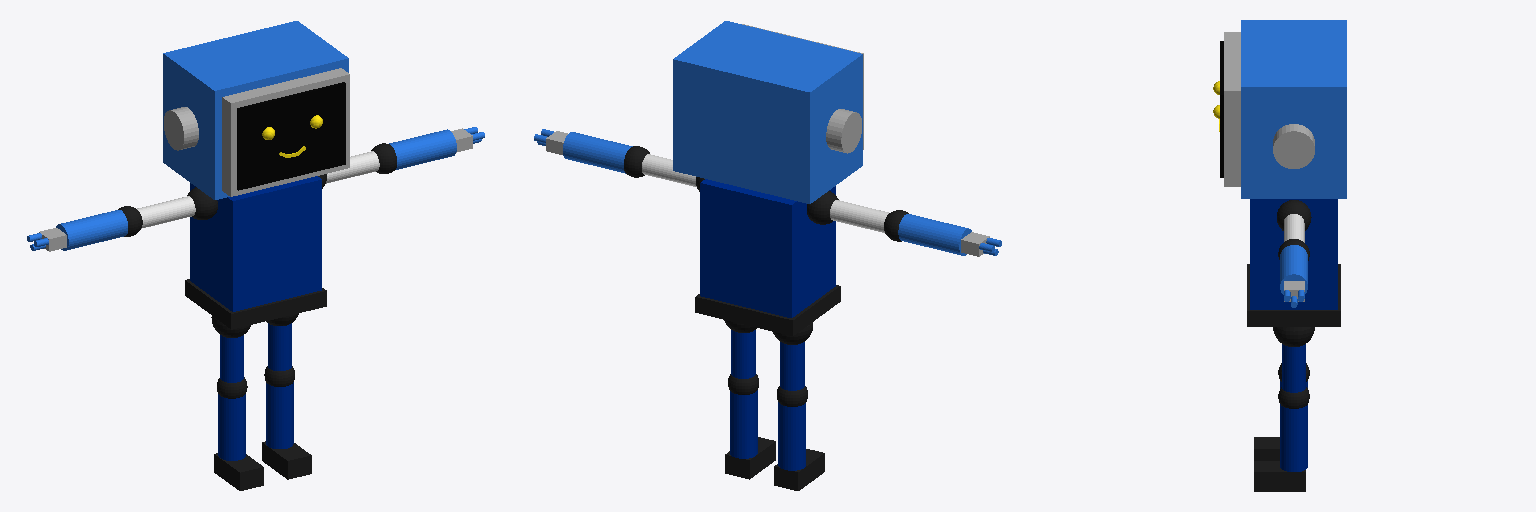
The robot description file, URDF, robot "robot":
<?xml version="1.0" ?>
<robot name="robot">
  <material name="mat_cube_003399ff">
    <color rgba="0 0.2 0.6 1"/>
  </material>
  <material name="mat_cube_262626ff">
    <color rgba="0.15 0.15 0.15 1"/>
  </material>
  <material name="mat_cylinder_262626ff">
    <color rgba="0.15 0.15 0.15 1"/>
  </material>
  <material name="mat_cube_3380e6ff">
    <color rgba="0.2 0.5 0.9 1"/>
  </material>
  <material name="mat_cube_b2b2b2ff">
    <color rgba="0.7 0.7 0.7 1"/>
  </material>
  <material name="mat_cube_0d0d0dff">
    <color rgba="0.05 0.05 0.05 1"/>
  </material>
  <material name="mat_sphere_ffe61aff">
    <color rgba="1 0.9 0.1 1"/>
  </material>
  <material name="mat_cube_ffe61aff">
    <color rgba="1 0.9 0.1 1"/>
  </material>
  <material name="mat_cylinder_b2b2b2ff">
    <color rgba="0.7 0.7 0.7 1"/>
  </material>
  <material name="mat_sphere_262626ff">
    <color rgba="0.15 0.15 0.15 1"/>
  </material>
  <material name="mat_cylinder_e6e6e6ff">
    <color rgba="0.9 0.9 0.9 1"/>
  </material>
  <material name="mat_cylinder_3380e6ff">
    <color rgba="0.2 0.5 0.9 1"/>
  </material>
  <material name="mat_cylinder_003399ff">
    <color rgba="0 0.2 0.6 1"/>
  </material>
  <link name="robot">
    <visual>
      <origin xyz="0 0 0" rpy="0 -0 0"/>
      <geometry>
        <box size="0.3 0.25 0.4"/>
      </geometry>
      <material name="mat_cube_003399ff">
        <color rgba="0 0.2 0.6 1"/>
      </material>
    </visual>
    <collision>
      <origin xyz="0 0 0" rpy="0 -0 0"/>
      <geometry>
        <box size="0.3 0.25 0.4"/>
      </geometry>
    </collision>
    <visual>
      <origin xyz="0 0 -0.18" rpy="0 -0 0"/>
      <geometry>
        <box size="0.32 0.27 0.05"/>
      </geometry>
      <material name="mat_cube_262626ff">
        <color rgba="0.15 0.15 0.15 1"/>
      </material>
    </visual>
    <collision>
      <origin xyz="0 0 -0.18" rpy="0 -0 0"/>
      <geometry>
        <box size="0.32 0.27 0.05"/>
      </geometry>
    </collision>
    <visual>
      <origin xyz="0 0 0.215" rpy="0 -0 0"/>
      <geometry>
        <cylinder radius="0.04" length="0.03"/>
      </geometry>
      <material name="mat_cylinder_262626ff">
        <color rgba="0.15 0.15 0.15 1"/>
      </material>
    </visual>
    <collision>
      <origin xyz="0 0 0.215" rpy="0 -0 0"/>
      <geometry>
        <cylinder radius="0.04" length="0.03"/>
      </geometry>
    </collision>
  </link>
  <link name="head">
    <visual>
      <origin xyz="0 0 0.175" rpy="0 -0 0"/>
      <geometry>
        <box size="0.45 0.3 0.35"/>
      </geometry>
      <material name="mat_cube_3380e6ff">
        <color rgba="0.2 0.5 0.9 1"/>
      </material>
    </visual>
    <collision>
      <origin xyz="0 0 0.175" rpy="0 -0 0"/>
      <geometry>
        <box size="0.45 0.3 0.35"/>
      </geometry>
    </collision>
    <visual>
      <origin xyz="0 -0.175 0.175" rpy="0 -0 0"/>
      <geometry>
        <box size="0.4 0.05 0.3"/>
      </geometry>
      <material name="mat_cube_b2b2b2ff">
        <color rgba="0.7 0.7 0.7 1"/>
      </material>
    </visual>
    <collision>
      <origin xyz="0 -0.175 0.175" rpy="0 -0 0"/>
      <geometry>
        <box size="0.4 0.05 0.3"/>
      </geometry>
    </collision>
    <visual>
      <origin xyz="0 -0.185 0.175" rpy="0 -0 0"/>
      <geometry>
        <box size="0.36 0.05 0.26"/>
      </geometry>
      <material name="mat_cube_0d0d0dff">
        <color rgba="0.05 0.05 0.05 1"/>
      </material>
    </visual>
    <collision>
      <origin xyz="0 -0.185 0.175" rpy="0 -0 0"/>
      <geometry>
        <box size="0.36 0.05 0.26"/>
      </geometry>
    </collision>
    <visual>
      <origin xyz="0.08 -0.21 0.205" rpy="0 -0 0"/>
      <geometry>
        <sphere radius="0.02"/>
      </geometry>
      <material name="mat_sphere_ffe61aff">
        <color rgba="1 0.9 0.1 1"/>
      </material>
    </visual>
    <collision>
      <origin xyz="0.08 -0.21 0.205" rpy="0 -0 0"/>
      <geometry>
        <sphere radius="0.02"/>
      </geometry>
    </collision>
    <visual>
      <origin xyz="-0.08 -0.21 0.205" rpy="0 -0 0"/>
      <geometry>
        <sphere radius="0.02"/>
      </geometry>
      <material name="mat_sphere_ffe61aff">
        <color rgba="1 0.9 0.1 1"/>
      </material>
    </visual>
    <collision>
      <origin xyz="-0.08 -0.21 0.205" rpy="0 -0 0"/>
      <geometry>
        <sphere radius="0.02"/>
      </geometry>
    </collision>
    <visual>
      <origin xyz="0 -0.21 0.117584936" rpy="0 -0 0"/>
      <geometry>
        <box size="0.04 0.01 0.01"/>
      </geometry>
      <material name="mat_cube_ffe61aff">
        <color rgba="1 0.9 0.1 1"/>
      </material>
    </visual>
    <collision>
      <origin xyz="0 -0.21 0.117584936" rpy="0 -0 0"/>
      <geometry>
        <box size="0.04 0.01 0.01"/>
      </geometry>
    </collision>
    <visual>
      <origin xyz="-0.03 -0.21 0.125584936" rpy="0 0.523598776 0"/>
      <geometry>
        <box size="0.03 0.01 0.01"/>
      </geometry>
      <material name="mat_cube_ffe61aff">
        <color rgba="1 0.9 0.1 1"/>
      </material>
    </visual>
    <collision>
      <origin xyz="-0.03 -0.21 0.125584936" rpy="0 0.523598776 0"/>
      <geometry>
        <box size="0.03 0.01 0.01"/>
      </geometry>
    </collision>
    <visual>
      <origin xyz="0.03 -0.21 0.125584936" rpy="0 -0.523598776 0"/>
      <geometry>
        <box size="0.03 0.01 0.01"/>
      </geometry>
      <material name="mat_cube_ffe61aff">
        <color rgba="1 0.9 0.1 1"/>
      </material>
    </visual>
    <collision>
      <origin xyz="0.03 -0.21 0.125584936" rpy="0 -0.523598776 0"/>
      <geometry>
        <box size="0.03 0.01 0.01"/>
      </geometry>
    </collision>
    <visual>
      <origin xyz="-0.25 0 0.175" rpy="-0 -1.57079633 0"/>
      <geometry>
        <cylinder radius="0.06" length="0.05"/>
      </geometry>
      <material name="mat_cylinder_b2b2b2ff">
        <color rgba="0.7 0.7 0.7 1"/>
      </material>
    </visual>
    <collision>
      <origin xyz="-0.25 0 0.175" rpy="-0 -1.57079633 0"/>
      <geometry>
        <cylinder radius="0.06" length="0.05"/>
      </geometry>
    </collision>
    <visual>
      <origin xyz="0.25 0 0.175" rpy="-0 1.57079633 0"/>
      <geometry>
        <cylinder radius="0.06" length="0.05"/>
      </geometry>
      <material name="mat_cylinder_b2b2b2ff">
        <color rgba="0.7 0.7 0.7 1"/>
      </material>
    </visual>
    <collision>
      <origin xyz="0.25 0 0.175" rpy="-0 1.57079633 0"/>
      <geometry>
        <cylinder radius="0.06" length="0.05"/>
      </geometry>
    </collision>
  </link>
  <link name="upper_arm">
    <visual>
      <origin xyz="0 0 0" rpy="0 -0 0"/>
      <geometry>
        <sphere radius="0.05"/>
      </geometry>
      <material name="mat_sphere_262626ff">
        <color rgba="0.15 0.15 0.15 1"/>
      </material>
    </visual>
    <collision>
      <origin xyz="0 0 0" rpy="0 -0 0"/>
      <geometry>
        <sphere radius="0.05"/>
      </geometry>
    </collision>
    <visual>
      <origin xyz="0.125 0 0" rpy="-0 1.57079633 0"/>
      <geometry>
        <cylinder radius="0.03" length="0.25"/>
      </geometry>
      <material name="mat_cylinder_e6e6e6ff">
        <color rgba="0.9 0.9 0.9 1"/>
      </material>
    </visual>
    <collision>
      <origin xyz="0.125 0 0" rpy="-0 1.57079633 0"/>
      <geometry>
        <cylinder radius="0.03" length="0.25"/>
      </geometry>
    </collision>
  </link>
  <link name="forearm">
    <visual>
      <origin xyz="0 0 0" rpy="0 -0 0"/>
      <geometry>
        <sphere radius="0.045"/>
      </geometry>
      <material name="mat_sphere_262626ff">
        <color rgba="0.15 0.15 0.15 1"/>
      </material>
    </visual>
    <collision>
      <origin xyz="0 0 0" rpy="0 -0 0"/>
      <geometry>
        <sphere radius="0.045"/>
      </geometry>
    </collision>
    <visual>
      <origin xyz="0.11 0 0" rpy="-0 1.57079633 0"/>
      <geometry>
        <cylinder radius="0.04" length="0.22"/>
      </geometry>
      <material name="mat_cylinder_3380e6ff">
        <color rgba="0.2 0.5 0.9 1"/>
      </material>
    </visual>
    <collision>
      <origin xyz="0.11 0 0" rpy="-0 1.57079633 0"/>
      <geometry>
        <cylinder radius="0.04" length="0.22"/>
      </geometry>
    </collision>
    <visual>
      <origin xyz="0.25 0 0" rpy="0 -0 0"/>
      <geometry>
        <box size="0.06 0.06 0.04"/>
      </geometry>
      <material name="mat_cube_b2b2b2ff">
        <color rgba="0.7 0.7 0.7 1"/>
      </material>
    </visual>
    <collision>
      <origin xyz="0.25 0 0" rpy="0 -0 0"/>
      <geometry>
        <box size="0.06 0.06 0.04"/>
      </geometry>
    </collision>
    <visual>
      <origin xyz="0.3 0.02 0.01" rpy="-0 1.57079633 0"/>
      <geometry>
        <cylinder radius="0.01" length="0.04"/>
      </geometry>
      <material name="mat_cylinder_3380e6ff">
        <color rgba="0.2 0.5 0.9 1"/>
      </material>
    </visual>
    <collision>
      <origin xyz="0.3 0.02 0.01" rpy="-0 1.57079633 0"/>
      <geometry>
        <cylinder radius="0.01" length="0.04"/>
      </geometry>
    </collision>
    <visual>
      <origin xyz="0.3 -0.02 0.01" rpy="-0 1.57079633 0"/>
      <geometry>
        <cylinder radius="0.01" length="0.04"/>
      </geometry>
      <material name="mat_cylinder_3380e6ff">
        <color rgba="0.2 0.5 0.9 1"/>
      </material>
    </visual>
    <collision>
      <origin xyz="0.3 -0.02 0.01" rpy="-0 1.57079633 0"/>
      <geometry>
        <cylinder radius="0.01" length="0.04"/>
      </geometry>
    </collision>
    <visual>
      <origin xyz="0.3 0 -0.01" rpy="-0 1.57079633 0"/>
      <geometry>
        <cylinder radius="0.01" length="0.04"/>
      </geometry>
      <material name="mat_cylinder_3380e6ff">
        <color rgba="0.2 0.5 0.9 1"/>
      </material>
    </visual>
    <collision>
      <origin xyz="0.3 0 -0.01" rpy="-0 1.57079633 0"/>
      <geometry>
        <cylinder radius="0.01" length="0.04"/>
      </geometry>
    </collision>
  </link>
  <link name="upper_arm_1">
    <visual>
      <origin xyz="0 0 0" rpy="0 -0 0"/>
      <geometry>
        <sphere radius="0.05"/>
      </geometry>
      <material name="mat_sphere_262626ff">
        <color rgba="0.15 0.15 0.15 1"/>
      </material>
    </visual>
    <collision>
      <origin xyz="0 0 0" rpy="0 -0 0"/>
      <geometry>
        <sphere radius="0.05"/>
      </geometry>
    </collision>
    <visual>
      <origin xyz="-0.125 0 0" rpy="-0 -1.57079633 0"/>
      <geometry>
        <cylinder radius="0.03" length="0.25"/>
      </geometry>
      <material name="mat_cylinder_e6e6e6ff">
        <color rgba="0.9 0.9 0.9 1"/>
      </material>
    </visual>
    <collision>
      <origin xyz="-0.125 0 0" rpy="-0 -1.57079633 0"/>
      <geometry>
        <cylinder radius="0.03" length="0.25"/>
      </geometry>
    </collision>
  </link>
  <link name="forearm_1">
    <visual>
      <origin xyz="0 0 0" rpy="0 -0 0"/>
      <geometry>
        <sphere radius="0.045"/>
      </geometry>
      <material name="mat_sphere_262626ff">
        <color rgba="0.15 0.15 0.15 1"/>
      </material>
    </visual>
    <collision>
      <origin xyz="0 0 0" rpy="0 -0 0"/>
      <geometry>
        <sphere radius="0.045"/>
      </geometry>
    </collision>
    <visual>
      <origin xyz="-0.11 0 0" rpy="-0 -1.57079633 0"/>
      <geometry>
        <cylinder radius="0.04" length="0.22"/>
      </geometry>
      <material name="mat_cylinder_3380e6ff">
        <color rgba="0.2 0.5 0.9 1"/>
      </material>
    </visual>
    <collision>
      <origin xyz="-0.11 0 0" rpy="-0 -1.57079633 0"/>
      <geometry>
        <cylinder radius="0.04" length="0.22"/>
      </geometry>
    </collision>
    <visual>
      <origin xyz="-0.25 0 0" rpy="0 -0 0"/>
      <geometry>
        <box size="0.06 0.06 0.04"/>
      </geometry>
      <material name="mat_cube_b2b2b2ff">
        <color rgba="0.7 0.7 0.7 1"/>
      </material>
    </visual>
    <collision>
      <origin xyz="-0.25 0 0" rpy="0 -0 0"/>
      <geometry>
        <box size="0.06 0.06 0.04"/>
      </geometry>
    </collision>
    <visual>
      <origin xyz="-0.3 0.02 0.01" rpy="-0 -1.57079633 0"/>
      <geometry>
        <cylinder radius="0.01" length="0.04"/>
      </geometry>
      <material name="mat_cylinder_3380e6ff">
        <color rgba="0.2 0.5 0.9 1"/>
      </material>
    </visual>
    <collision>
      <origin xyz="-0.3 0.02 0.01" rpy="-0 -1.57079633 0"/>
      <geometry>
        <cylinder radius="0.01" length="0.04"/>
      </geometry>
    </collision>
    <visual>
      <origin xyz="-0.3 -0.02 0.01" rpy="-0 -1.57079633 0"/>
      <geometry>
        <cylinder radius="0.01" length="0.04"/>
      </geometry>
      <material name="mat_cylinder_3380e6ff">
        <color rgba="0.2 0.5 0.9 1"/>
      </material>
    </visual>
    <collision>
      <origin xyz="-0.3 -0.02 0.01" rpy="-0 -1.57079633 0"/>
      <geometry>
        <cylinder radius="0.01" length="0.04"/>
      </geometry>
    </collision>
    <visual>
      <origin xyz="-0.3 0 -0.01" rpy="-0 -1.57079633 0"/>
      <geometry>
        <cylinder radius="0.01" length="0.04"/>
      </geometry>
      <material name="mat_cylinder_3380e6ff">
        <color rgba="0.2 0.5 0.9 1"/>
      </material>
    </visual>
    <collision>
      <origin xyz="-0.3 0 -0.01" rpy="-0 -1.57079633 0"/>
      <geometry>
        <cylinder radius="0.01" length="0.04"/>
      </geometry>
    </collision>
  </link>
  <link name="thigh">
    <visual>
      <origin xyz="0 0 0" rpy="0 -0 0"/>
      <geometry>
        <sphere radius="0.06"/>
      </geometry>
      <material name="mat_sphere_262626ff">
        <color rgba="0.15 0.15 0.15 1"/>
      </material>
    </visual>
    <collision>
      <origin xyz="0 0 0" rpy="0 -0 0"/>
      <geometry>
        <sphere radius="0.06"/>
      </geometry>
    </collision>
    <visual>
      <origin xyz="0 0 -0.11" rpy="3.14159265 -0 0"/>
      <geometry>
        <cylinder radius="0.035" length="0.22"/>
      </geometry>
      <material name="mat_cylinder_003399ff">
        <color rgba="0 0.2 0.6 1"/>
      </material>
    </visual>
    <collision>
      <origin xyz="0 0 -0.11" rpy="3.14159265 -0 0"/>
      <geometry>
        <cylinder radius="0.035" length="0.22"/>
      </geometry>
    </collision>
  </link>
  <link name="lower_leg">
    <visual>
      <origin xyz="0 0 0" rpy="0 -0 0"/>
      <geometry>
        <sphere radius="0.045"/>
      </geometry>
      <material name="mat_sphere_262626ff">
        <color rgba="0.15 0.15 0.15 1"/>
      </material>
    </visual>
    <collision>
      <origin xyz="0 0 0" rpy="0 -0 0"/>
      <geometry>
        <sphere radius="0.045"/>
      </geometry>
    </collision>
    <visual>
      <origin xyz="0 0 -0.11" rpy="3.14159265 -0 0"/>
      <geometry>
        <cylinder radius="0.04" length="0.22"/>
      </geometry>
      <material name="mat_cylinder_003399ff">
        <color rgba="0 0.2 0.6 1"/>
      </material>
    </visual>
    <collision>
      <origin xyz="0 0 -0.11" rpy="3.14159265 -0 0"/>
      <geometry>
        <cylinder radius="0.04" length="0.22"/>
      </geometry>
    </collision>
    <visual>
      <origin xyz="0 -0.04 -0.25" rpy="0 -0 0"/>
      <geometry>
        <box size="0.08 0.15 0.06"/>
      </geometry>
      <material name="mat_cube_262626ff">
        <color rgba="0.15 0.15 0.15 1"/>
      </material>
    </visual>
    <collision>
      <origin xyz="0 -0.04 -0.25" rpy="0 -0 0"/>
      <geometry>
        <box size="0.08 0.15 0.06"/>
      </geometry>
    </collision>
  </link>
  <link name="thigh_1">
    <visual>
      <origin xyz="0 0 0" rpy="0 -0 0"/>
      <geometry>
        <sphere radius="0.06"/>
      </geometry>
      <material name="mat_sphere_262626ff">
        <color rgba="0.15 0.15 0.15 1"/>
      </material>
    </visual>
    <collision>
      <origin xyz="0 0 0" rpy="0 -0 0"/>
      <geometry>
        <sphere radius="0.06"/>
      </geometry>
    </collision>
    <visual>
      <origin xyz="0 0 -0.11" rpy="3.14159265 -0 0"/>
      <geometry>
        <cylinder radius="0.035" length="0.22"/>
      </geometry>
      <material name="mat_cylinder_003399ff">
        <color rgba="0 0.2 0.6 1"/>
      </material>
    </visual>
    <collision>
      <origin xyz="0 0 -0.11" rpy="3.14159265 -0 0"/>
      <geometry>
        <cylinder radius="0.035" length="0.22"/>
      </geometry>
    </collision>
  </link>
  <link name="lower_leg_1">
    <visual>
      <origin xyz="0 0 0" rpy="0 -0 0"/>
      <geometry>
        <sphere radius="0.045"/>
      </geometry>
      <material name="mat_sphere_262626ff">
        <color rgba="0.15 0.15 0.15 1"/>
      </material>
    </visual>
    <collision>
      <origin xyz="0 0 0" rpy="0 -0 0"/>
      <geometry>
        <sphere radius="0.045"/>
      </geometry>
    </collision>
    <visual>
      <origin xyz="0 0 -0.11" rpy="3.14159265 -0 0"/>
      <geometry>
        <cylinder radius="0.04" length="0.22"/>
      </geometry>
      <material name="mat_cylinder_003399ff">
        <color rgba="0 0.2 0.6 1"/>
      </material>
    </visual>
    <collision>
      <origin xyz="0 0 -0.11" rpy="3.14159265 -0 0"/>
      <geometry>
        <cylinder radius="0.04" length="0.22"/>
      </geometry>
    </collision>
    <visual>
      <origin xyz="0 -0.04 -0.25" rpy="0 -0 0"/>
      <geometry>
        <box size="0.08 0.15 0.06"/>
      </geometry>
      <material name="mat_cube_262626ff">
        <color rgba="0.15 0.15 0.15 1"/>
      </material>
    </visual>
    <collision>
      <origin xyz="0 -0.04 -0.25" rpy="0 -0 0"/>
      <geometry>
        <box size="0.08 0.15 0.06"/>
      </geometry>
    </collision>
  </link>
  <joint name="head" type="revolute">
    <parent link="robot"/>
    <child link="head"/>
    <origin xyz="0 0 0.23" rpy="0 -0 0"/>
    <axis xyz="1 0 0"/>
    <limit lower="-0.174532925" upper="0.174532925"/>
  </joint>
  <joint name="ur" type="revolute">
    <parent link="robot"/>
    <child link="upper_arm"/>
    <origin xyz="0.18 0 0.15" rpy="0 -0 0"/>
    <axis xyz="0 1 0"/>
    <limit lower="-0.523598776" upper="1.396263402"/>
  </joint>
  <joint name="forearm" type="revolute">
    <parent link="upper_arm"/>
    <child link="forearm"/>
    <origin xyz="0.25 0 0" rpy="0 -0 0"/>
    <axis xyz="0 1 0"/>
    <limit lower="0" upper="2.094395102"/>
  </joint>
  <joint name="ul" type="revolute">
    <parent link="robot"/>
    <child link="upper_arm_1"/>
    <origin xyz="-0.18 0 0.15" rpy="0 -0 0"/>
    <axis xyz="0 1 0"/>
    <limit lower="-1.396263402" upper="0.523598776"/>
  </joint>
  <joint name="forearm_1" type="revolute">
    <parent link="upper_arm_1"/>
    <child link="forearm_1"/>
    <origin xyz="-0.25 0 0" rpy="0 -0 0"/>
    <axis xyz="0 1 0"/>
    <limit lower="-2.094395102" upper="0"/>
  </joint>
  <joint name="tr" type="revolute">
    <parent link="robot"/>
    <child link="thigh"/>
    <origin xyz="0.08 0 -0.24" rpy="0 -0 0"/>
    <axis xyz="1 0 0"/>
    <limit lower="-1.570796327" upper="1.570796327"/>
  </joint>
  <joint name="lower_leg" type="revolute">
    <parent link="thigh"/>
    <child link="lower_leg"/>
    <origin xyz="0 0 -0.22" rpy="0 -0 0"/>
    <axis xyz="1 0 0"/>
    <limit lower="0" upper="2.094395102"/>
  </joint>
  <joint name="tl" type="revolute">
    <parent link="robot"/>
    <child link="thigh_1"/>
    <origin xyz="-0.08 0 -0.24" rpy="0 -0 0"/>
    <axis xyz="1 0 0"/>
    <limit lower="-1.570796327" upper="1.570796327"/>
  </joint>
  <joint name="lower_leg_1" type="revolute">
    <parent link="thigh_1"/>
    <child link="lower_leg_1"/>
    <origin xyz="0 0 -0.22" rpy="0 -0 0"/>
    <axis xyz="1 0 0"/>
    <limit lower="0" upper="2.094395102"/>
  </joint>
</robot>

--- What the picture shows (computed from the rendered views, not written in the file) ---
3 views of the same robot in one strip: view 1: azimuth 30°, elevation 25°; view 2: azimuth 150°, elevation 25°; view 3: azimuth 270°, elevation 25° (orthographic).
Robot: robot — 10 links, 9 joints (9 revolute); root link robot; default pose: all joints at 0.
Links seen in each view (by area): view 1: head, robot, lower_leg, lower_leg_1, forearm_1, forearm, upper_arm_1, thigh_1, thigh, upper_arm; view 2: head, robot, lower_leg_1, lower_leg, forearm_1, forearm, upper_arm_1, thigh_1, thigh, upper_arm; view 3: head, robot, lower_leg, thigh, forearm, upper_arm, lower_leg_1.
Link boxes in pixels (bbox=[...]): head: bbox=[163, 21, 349, 199]; robot: bbox=[185, 176, 326, 329]; lower_leg: bbox=[262, 366, 311, 479]; lower_leg_1: bbox=[214, 377, 263, 490]; forearm_1: bbox=[27, 206, 142, 251]; forearm: bbox=[371, 127, 484, 173]; upper_arm_1: bbox=[137, 187, 217, 228]; thigh_1: bbox=[211, 316, 250, 382]; thigh: bbox=[266, 313, 298, 370]; upper_arm: bbox=[318, 151, 379, 188]; head: bbox=[673, 21, 863, 203]; robot: bbox=[695, 179, 840, 335]; lower_leg_1: bbox=[774, 386, 824, 490]; lower_leg: bbox=[725, 374, 775, 479]; forearm_1: bbox=[884, 210, 1001, 256]; forearm: bbox=[534, 129, 649, 177]; upper_arm_1: bbox=[807, 191, 888, 232]; thigh_1: bbox=[773, 322, 812, 390]; thigh: bbox=[724, 320, 756, 378]; upper_arm: bbox=[642, 154, 704, 191]; head: bbox=[1213, 20, 1346, 198]; robot: bbox=[1247, 199, 1340, 326]; lower_leg: bbox=[1254, 387, 1309, 491]; thigh: bbox=[1273, 327, 1314, 392]; forearm: bbox=[1278, 239, 1309, 307]; upper_arm: bbox=[1277, 200, 1311, 242]; lower_leg_1: bbox=[1254, 363, 1309, 460].
Bounding box of the posed robot: 1.5 × 0.38 × 1.32 m (x, y, z).
Geometry: primitives only (box / cylinder / sphere), no mesh files.
